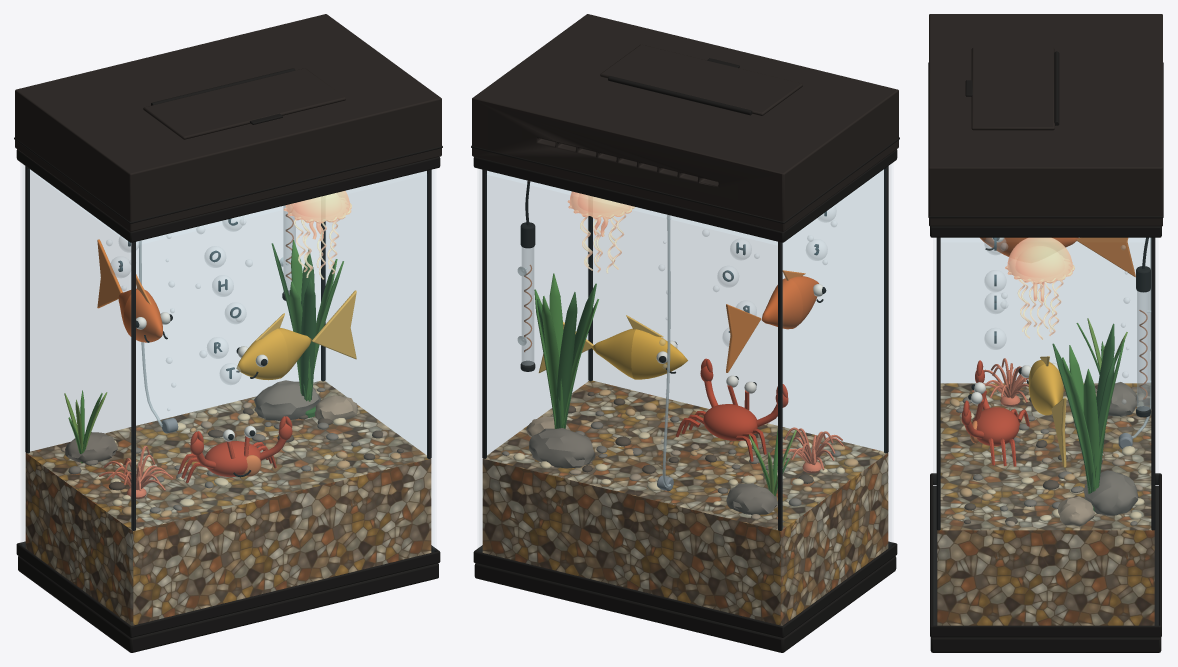
Rendered from fish-aquarium.glb.
3 views of the same model, side by side, from view 1: azimuth 30°, elevation 25°; view 2: azimuth 150°, elevation 25°; view 3: azimuth 270°, elevation 25° (orthographic).
Visible parts, largest first — view 1: glass_back, gravel, flap, base_trim, foot, pebble.008, bubble, leaf, fishB_body, claw, leaf.001, fishB_dorsal (+11 smaller); view 2: glass_back, gravel, flap, base_trim, foot, pebble.008, leaf, fishB_body, leaf.001, claw, bubble, fishA_body (+11 smaller); view 3: flap, gravel, glass_back, base_trim, leaf, pebble.008, foot, jelly_bell, leaf.001, claw, bubble, heater_glass (+13 smaller).
Boxes of the visible parts, x1=… form: glass_back: x1=23, y1=165, x2=433, y2=625; gravel: x1=25, y1=380, x2=431, y2=625; flap: x1=15, y1=14, x2=441, y2=231; base_trim: x1=14, y1=68, x2=442, y2=652; foot: x1=25, y1=166, x2=431, y2=530; pebble.008: x1=65, y1=380, x2=359, y2=513; bubble: x1=106, y1=216, x2=252, y2=410; leaf: x1=68, y1=240, x2=343, y2=463; fishB_body: x1=236, y1=327, x2=311, y2=380; claw: x1=190, y1=416, x2=292, y2=476; leaf.001: x1=271, y1=243, x2=315, y2=399; fishB_dorsal: x1=255, y1=290, x2=356, y2=359; glass_back: x1=480, y1=165, x2=890, y2=625; gravel: x1=482, y1=380, x2=888, y2=625; flap: x1=472, y1=14, x2=898, y2=231; base_trim: x1=471, y1=58, x2=899, y2=652; foot: x1=482, y1=166, x2=888, y2=530; pebble.008: x1=502, y1=411, x2=841, y2=514; leaf: x1=534, y1=273, x2=789, y2=496; fishB_body: x1=591, y1=328, x2=687, y2=379; leaf.001: x1=537, y1=283, x2=596, y2=428; claw: x1=700, y1=358, x2=788, y2=440; bubble: x1=658, y1=206, x2=836, y2=443; fishA_body: x1=761, y1=276, x2=818, y2=329; flap: x1=929, y1=14, x2=1162, y2=226; gravel: x1=937, y1=383, x2=1154, y2=625; glass_back: x1=941, y1=238, x2=1149, y2=382; base_trim: x1=928, y1=51, x2=1163, y2=652; leaf: x1=1062, y1=323, x2=1124, y2=493; pebble.008: x1=956, y1=382, x2=1138, y2=525; foot: x1=936, y1=237, x2=1155, y2=530; jelly_bell: x1=1005, y1=237, x2=1074, y2=302; leaf.001: x1=1052, y1=323, x2=1114, y2=493; claw: x1=961, y1=360, x2=1019, y2=445; bubble: x1=984, y1=238, x2=1129, y2=426; heater_glass: x1=1137, y1=291, x2=1149, y2=410.
Bounding box in the file's own units: 0.616 × 0.918 × 0.396.
32 materials, 1 textured.
